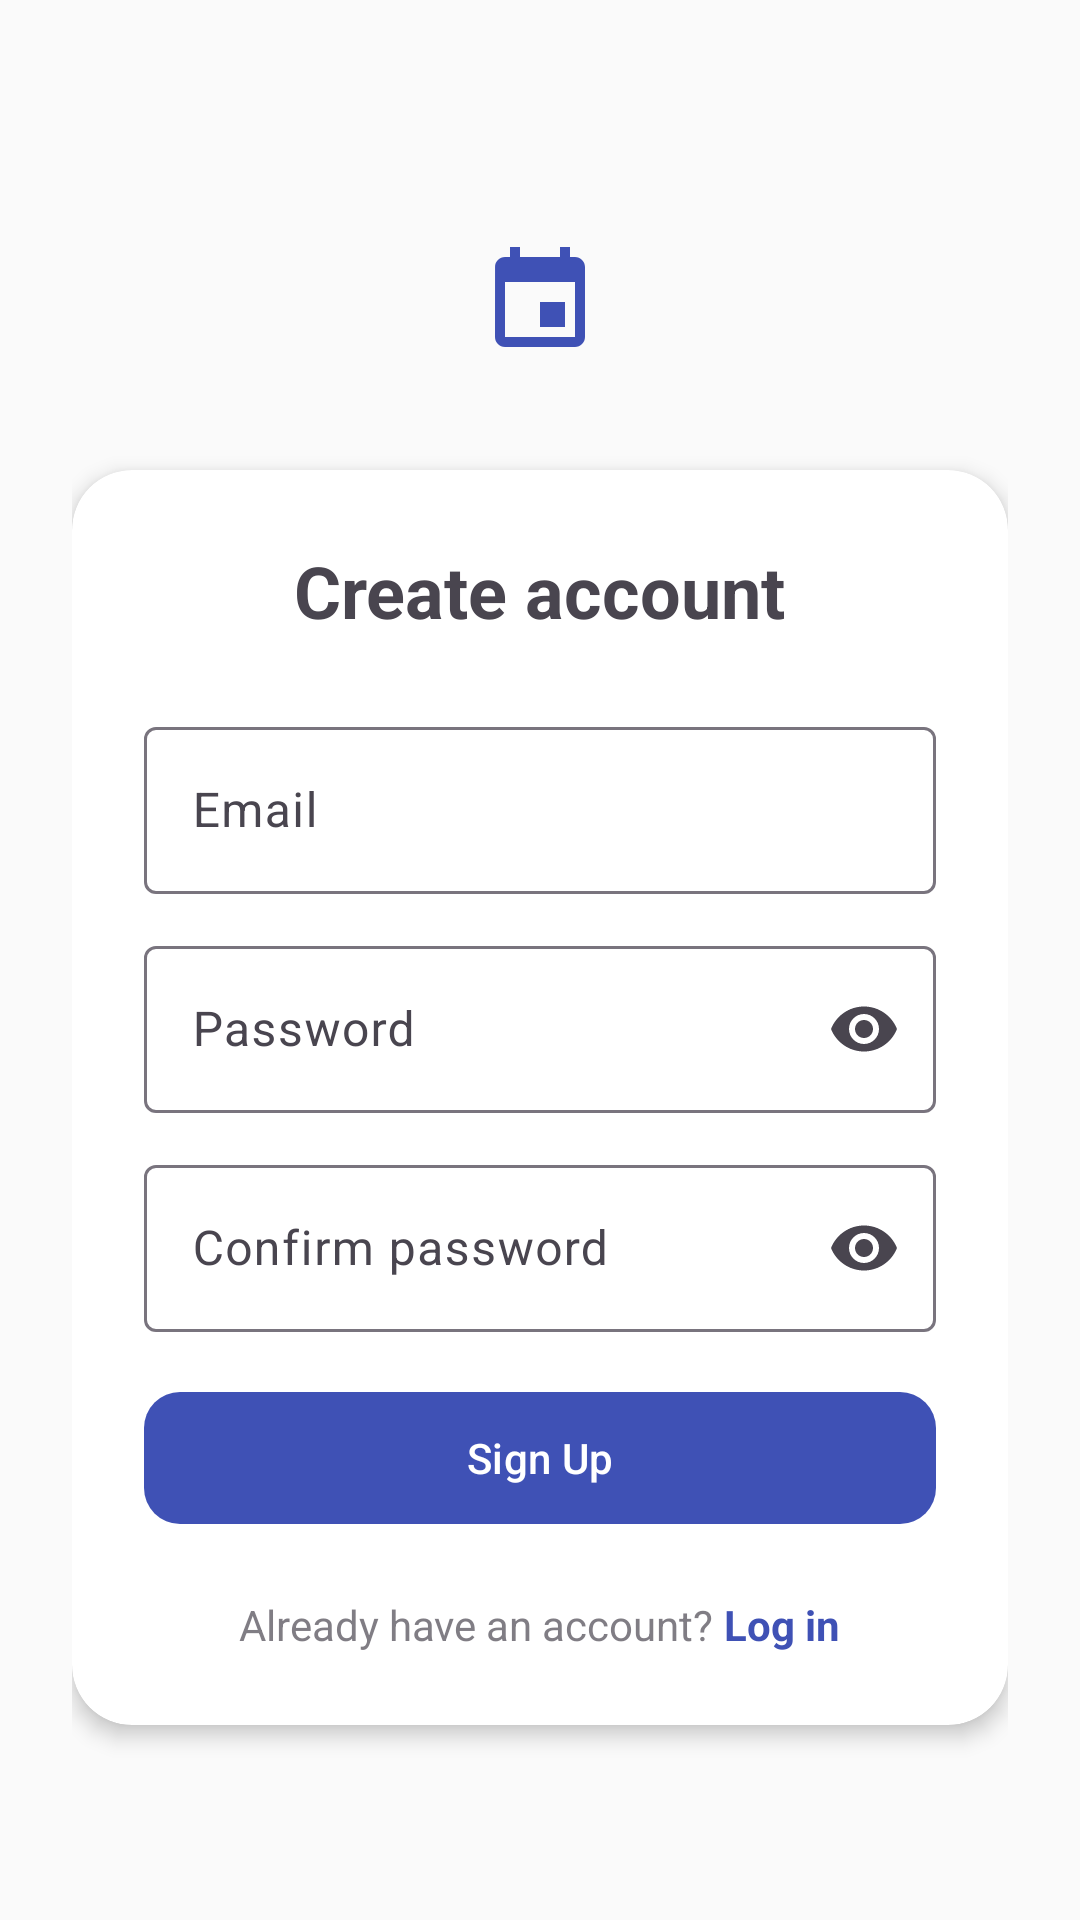

Screen size 1080x1920. Icon name, then its box in pixels as (x1, y1, x2, y2):
event stat: (495, 247, 585, 347)
